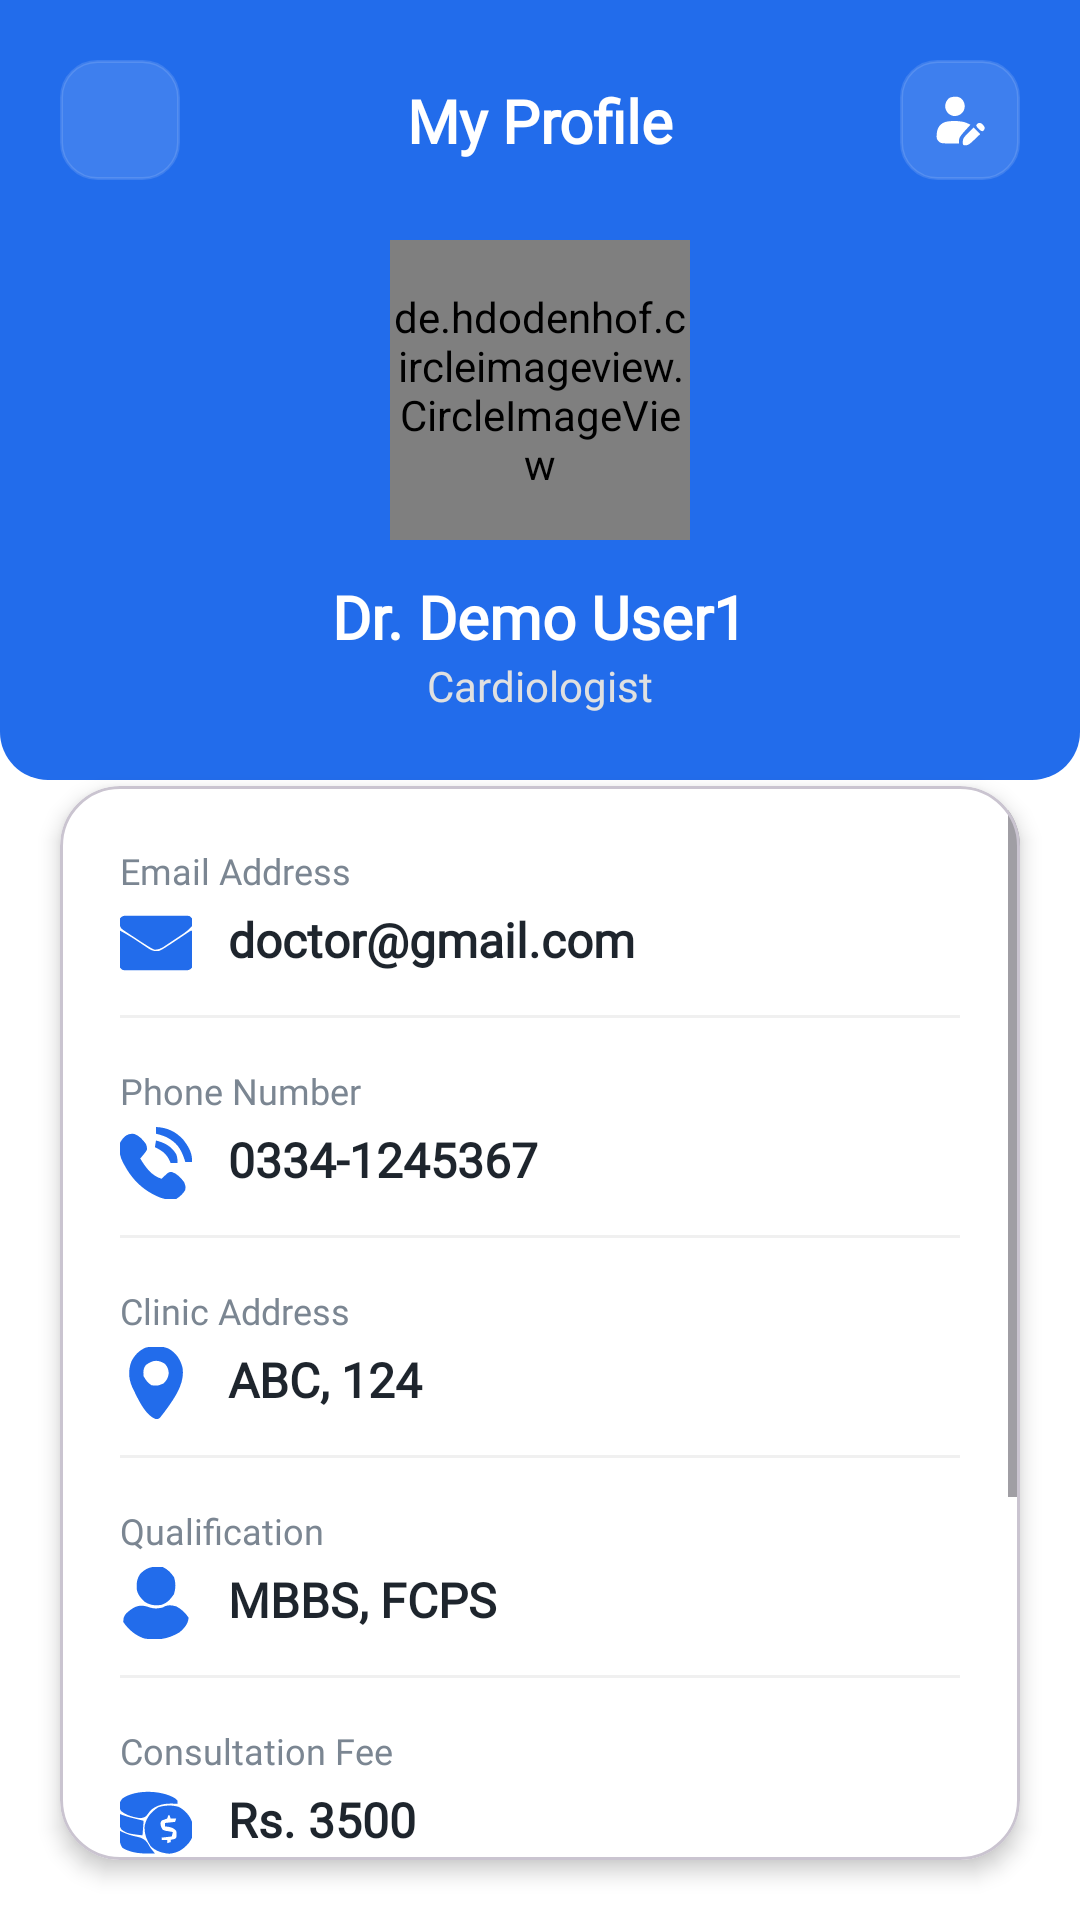

Icon bounding boxes for this 1080px x 1920px phone screenshot, format BBox(x1, y1, x2, y2):
edit: BBox(900, 60, 1020, 180)
